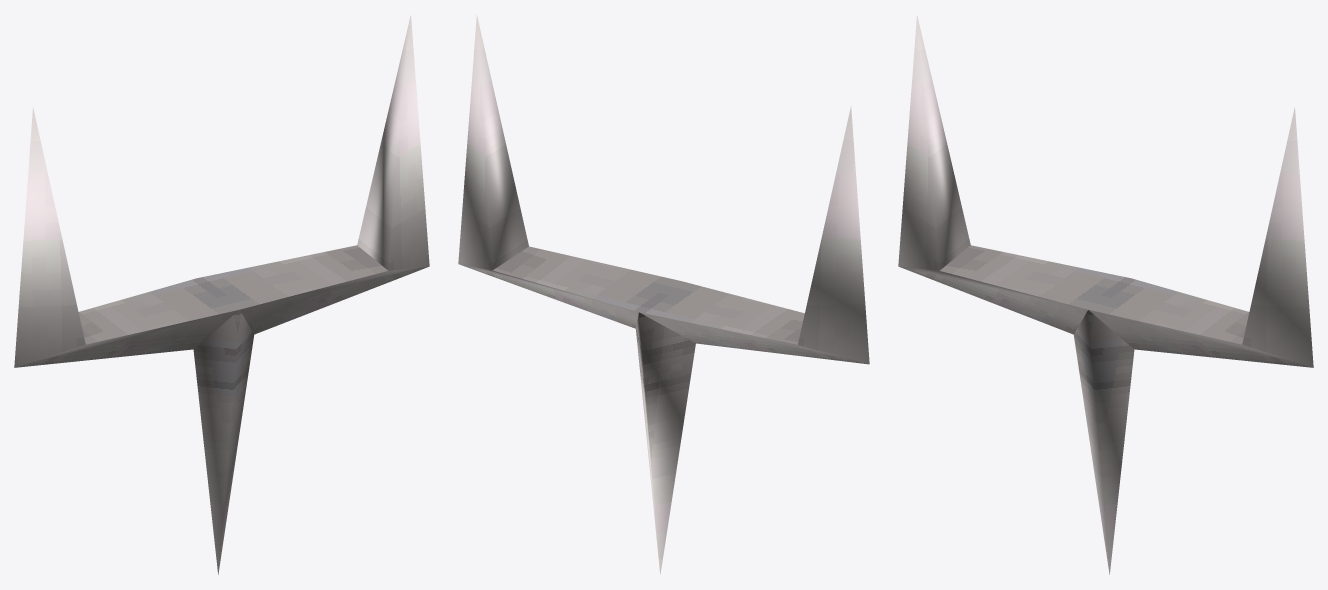
Rendered from yt1300_turret_base_l2.fbx.
The picture shows the model from 3 angles, left to right: view 1: azimuth 30°, elevation 25°; view 2: azimuth 150°, elevation 25°; view 3: azimuth 330°, elevation 25°; orthographic projection.
Visible parts, largest first — view 1: mesh_node; view 2: mesh_node; view 3: mesh_node.
Boxes of the visible parts, <box> form: mesh_node: <box>14,15,429,574</box>; mesh_node: <box>458,14,869,574</box>; mesh_node: <box>898,15,1313,574</box>.
Bounding box in the file's own units: 1.54 × 1.84 × 0.2762.
1 material, 1 textured.
